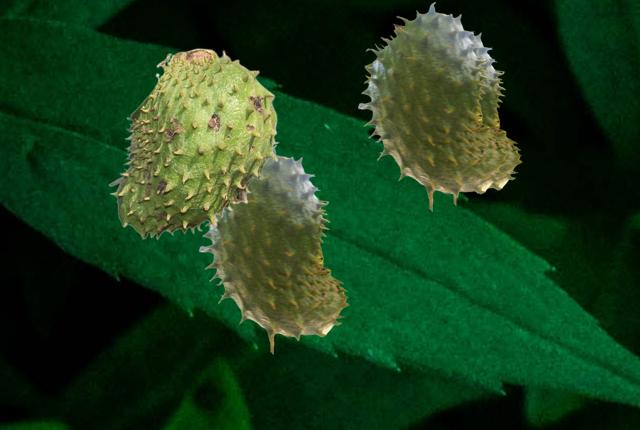guyabano: (108, 48, 278, 239), (199, 145, 348, 353), (358, 2, 507, 210), (453, 32, 521, 204)
